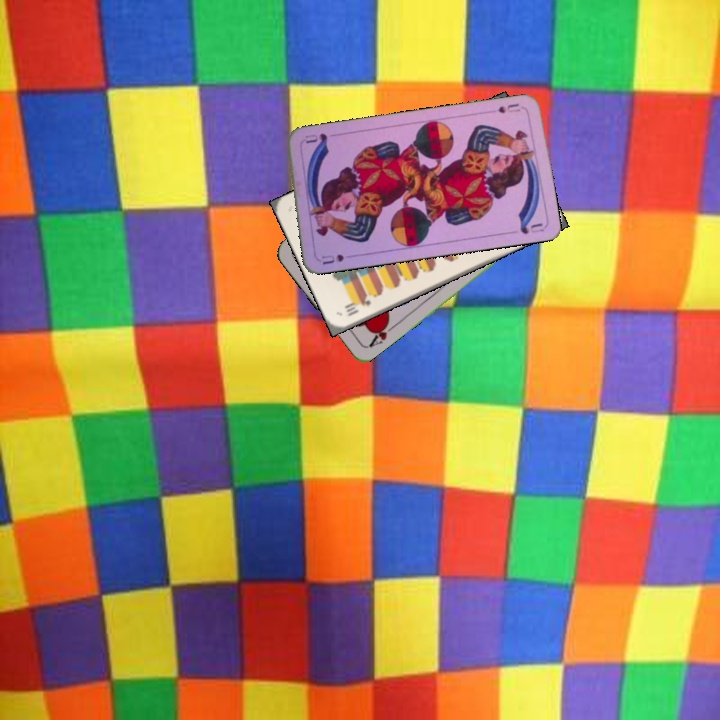E10: (341, 294, 373, 319)
HA: (363, 317, 398, 350)
SU: (318, 250, 358, 267), (494, 99, 527, 116)
